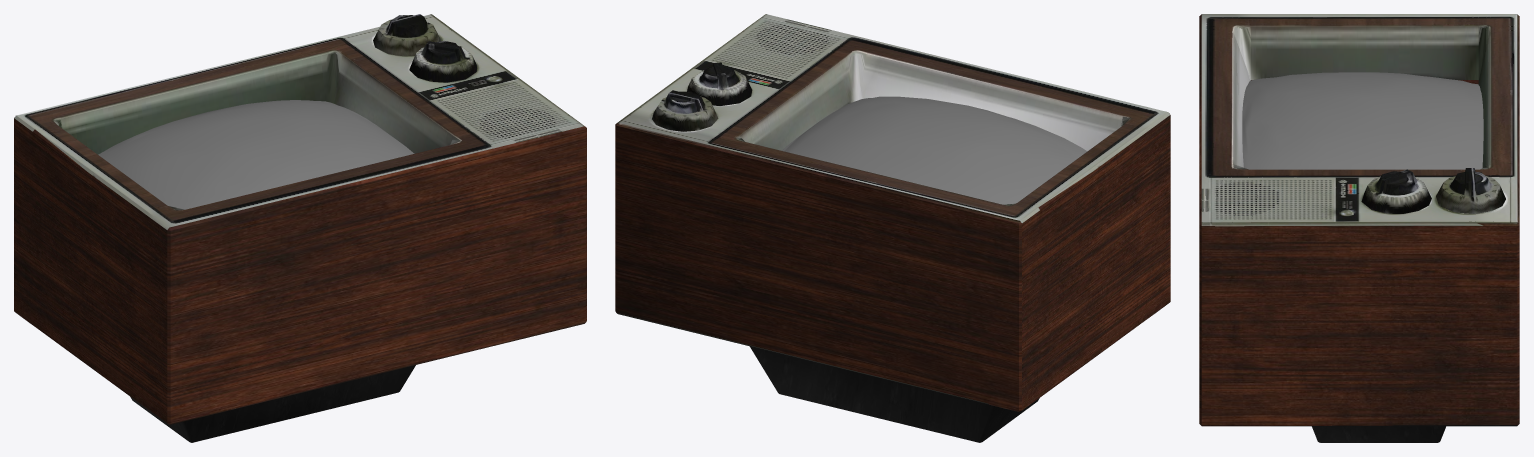
Rendered from TV-medium.glb.
3 renders of one model, left to right at view 1: azimuth 30°, elevation 25°; view 2: azimuth 150°, elevation 25°; view 3: azimuth 270°, elevation 25°, orthographic. The views are drawn at different scales.
Parts seen in each view (by area): view 1: polySurface1, screenSurface, pCube2, pCube6; view 2: polySurface1, screenSurface, pCube2, pCube6; view 3: polySurface1, screenSurface, pCube6, pCube2.
Boxes of the visible parts, bbox=[...] form: polySurface1: bbox=[14, 14, 586, 424]; screenSurface: bbox=[98, 100, 414, 209]; pCube2: bbox=[130, 365, 415, 442]; pCube6: bbox=[373, 14, 477, 82]; polySurface1: bbox=[615, 14, 1170, 411]; screenSurface: bbox=[782, 96, 1086, 204]; pCube2: bbox=[750, 346, 1039, 442]; pCube6: bbox=[652, 62, 752, 131]; polySurface1: bbox=[1199, 14, 1519, 426]; screenSurface: bbox=[1242, 72, 1483, 169]; pCube6: bbox=[1361, 168, 1505, 213]; pCube2: bbox=[1312, 426, 1445, 442].
Bounding box in the file's own units: 1.71 × 1.17 × 1.1.
2 materials, 1 textured.
